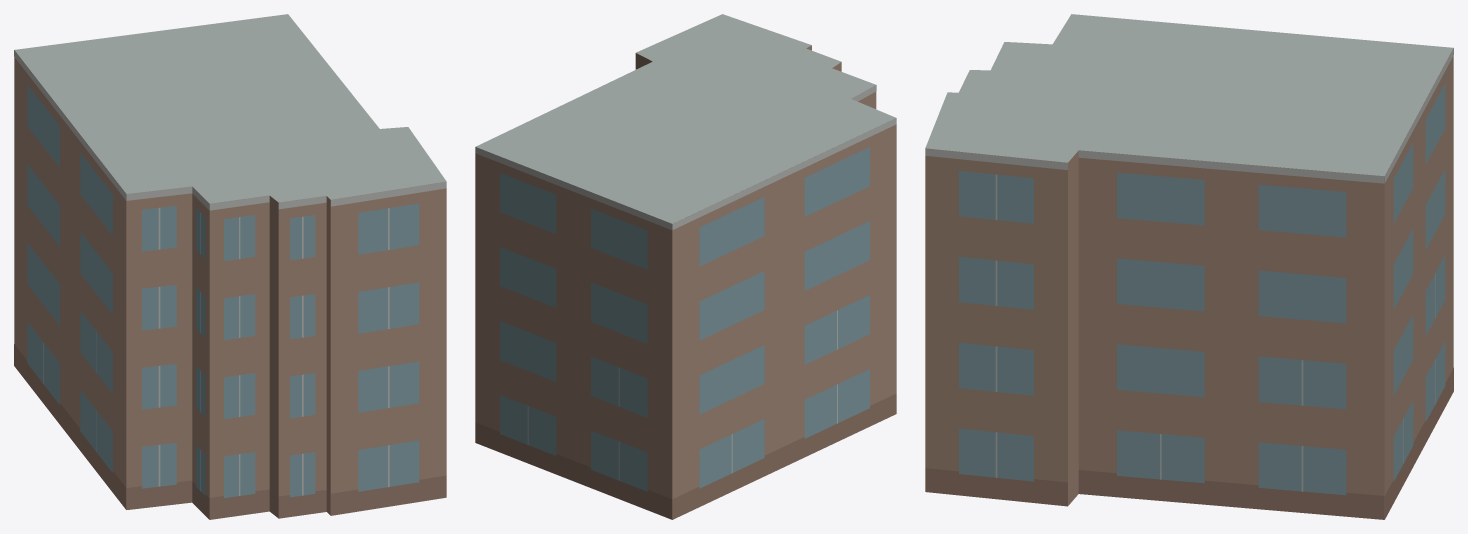
The model's file is survey-upis-32509605.glb.
3 renders of one model, left to right at view 1: azimuth 30°, elevation 25°; view 2: azimuth 150°, elevation 25°; view 3: azimuth 270°, elevation 25°, orthographic. The views are drawn at different scales.
Parts seen in each view (by area): view 1: survey-upis-32509605.tmp; view 2: survey-upis-32509605.tmp; view 3: survey-upis-32509605.tmp.
Part boxes in pixels (left/top/right/bottom): survey-upis-32509605.tmp: left=14, top=14, right=446, bottom=519; survey-upis-32509605.tmp: left=475, top=14, right=896, bottom=519; survey-upis-32509605.tmp: left=925, top=14, right=1453, bottom=519.
Size of the model in its own units: 11.45 by 11.3 by 15.76.
